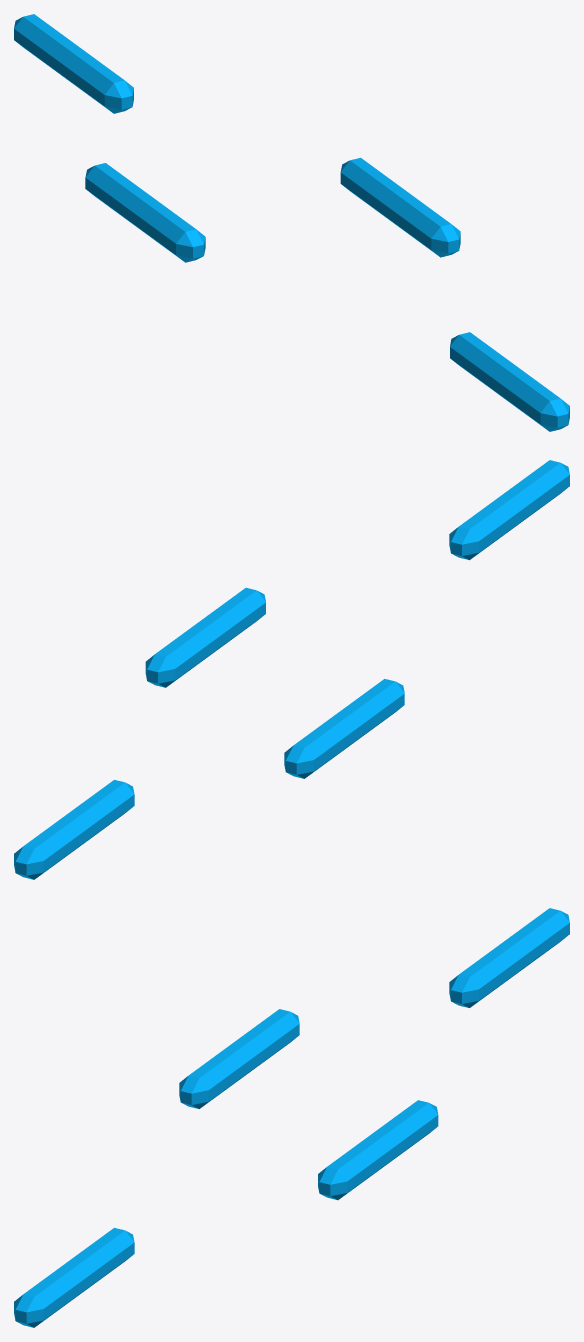
File: bullets.glb
3 renders of one model, top to bottom at view 1: azimuth 30°, elevation 25°; view 2: azimuth 150°, elevation 25°; view 3: azimuth 330°, elevation 25°, orthographic.
Parts seen in each view (by area): view 1: Cube.004, Cube.001, Cube.003, Cube.002; view 2: Cube.002, Cube.003, Cube.001, Cube.004; view 3: Cube.002, Cube.003, Cube.001, Cube.004.
Boxes of the visible parts, x1,y1,x2,y2 form: Cube.004: [340, 157, 460, 257]; Cube.001: [85, 163, 205, 262]; Cube.003: [14, 14, 133, 113]; Cube.002: [450, 332, 569, 431]; Cube.002: [449, 460, 569, 560]; Cube.003: [14, 780, 134, 879]; Cube.001: [284, 679, 404, 778]; Cube.004: [145, 587, 265, 687]; Cube.002: [14, 1227, 134, 1327]; Cube.003: [449, 908, 569, 1007]; Cube.001: [179, 1009, 299, 1108]; Cube.004: [318, 1100, 438, 1200].
Bounding box in the file's own units: 23.22 × 3.03 × 96.2.
Materials: 1 (1 with a texture image).
